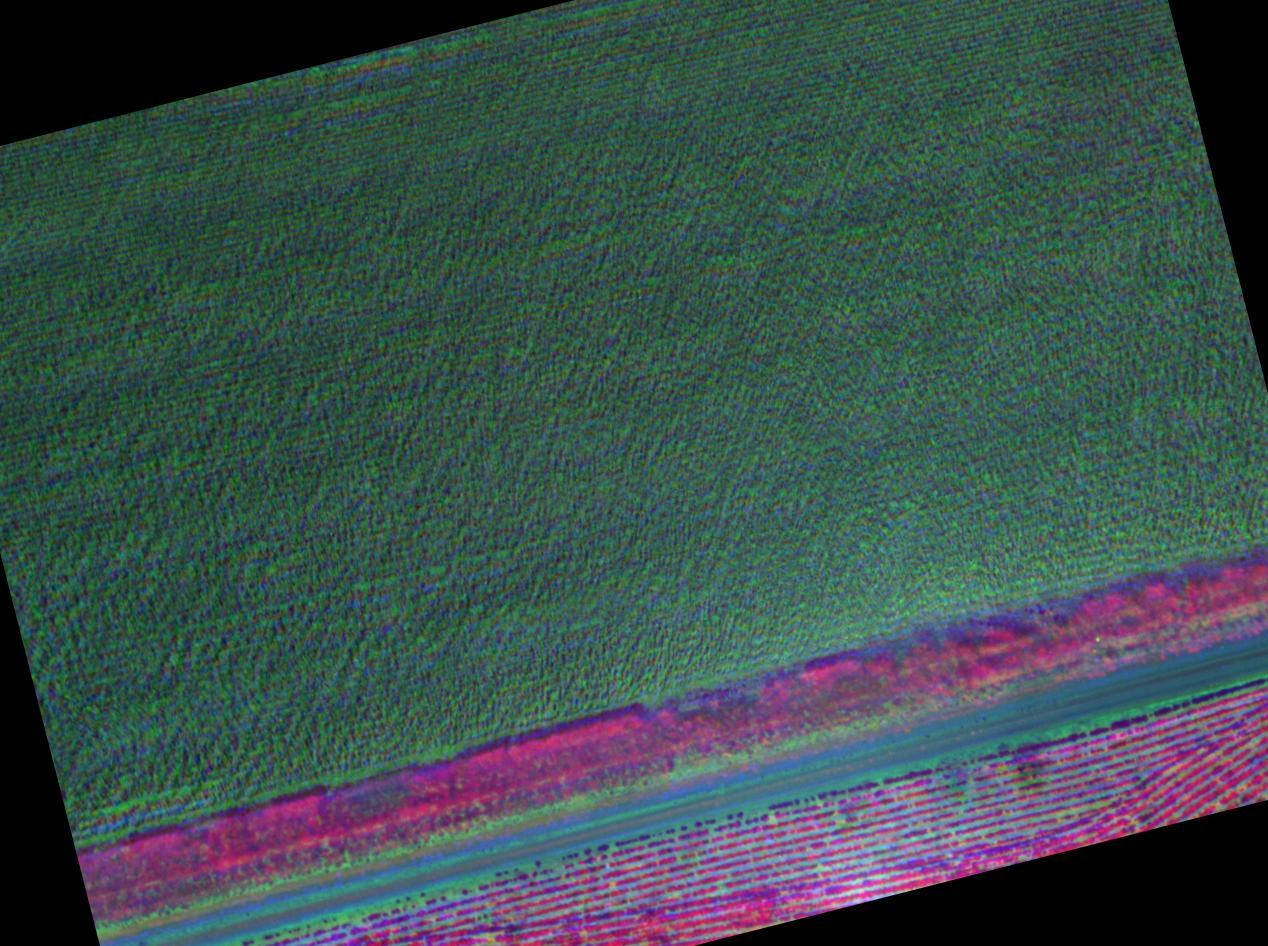dc: (988, 710, 1090, 812)
